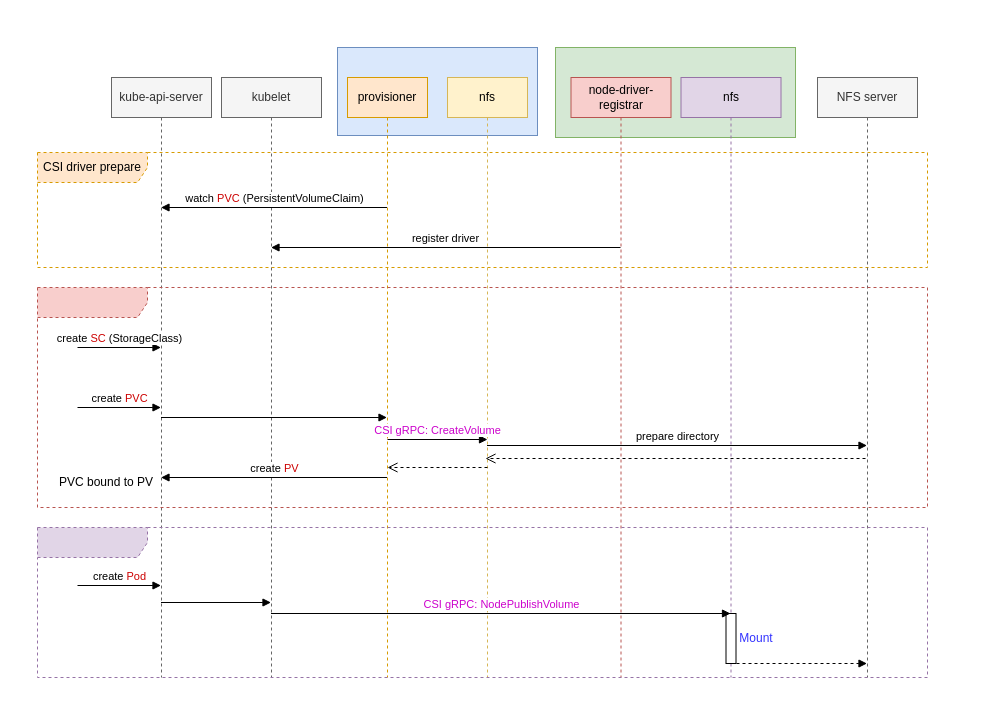
The diagram is 984 pixels wide and 724 high, and some of its shapes have lost their labels. Here are the shapes that lost their labels. From the top down, the box of each, then its label:
(336, 46, 538, 136): CSI Controller Plugin
(554, 46, 796, 138): CSI Node Plugin
(36, 286, 928, 508): dynamic provision
(36, 526, 928, 678): pod volume
